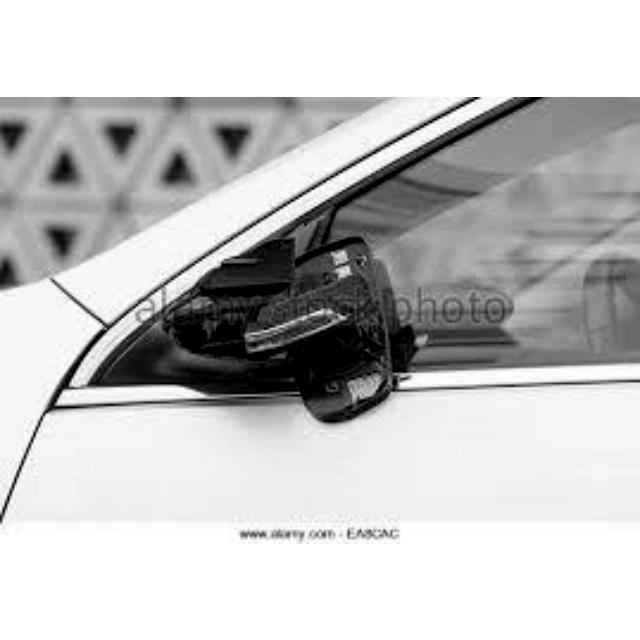Sidemirror-Damage: (165, 246, 412, 424)
